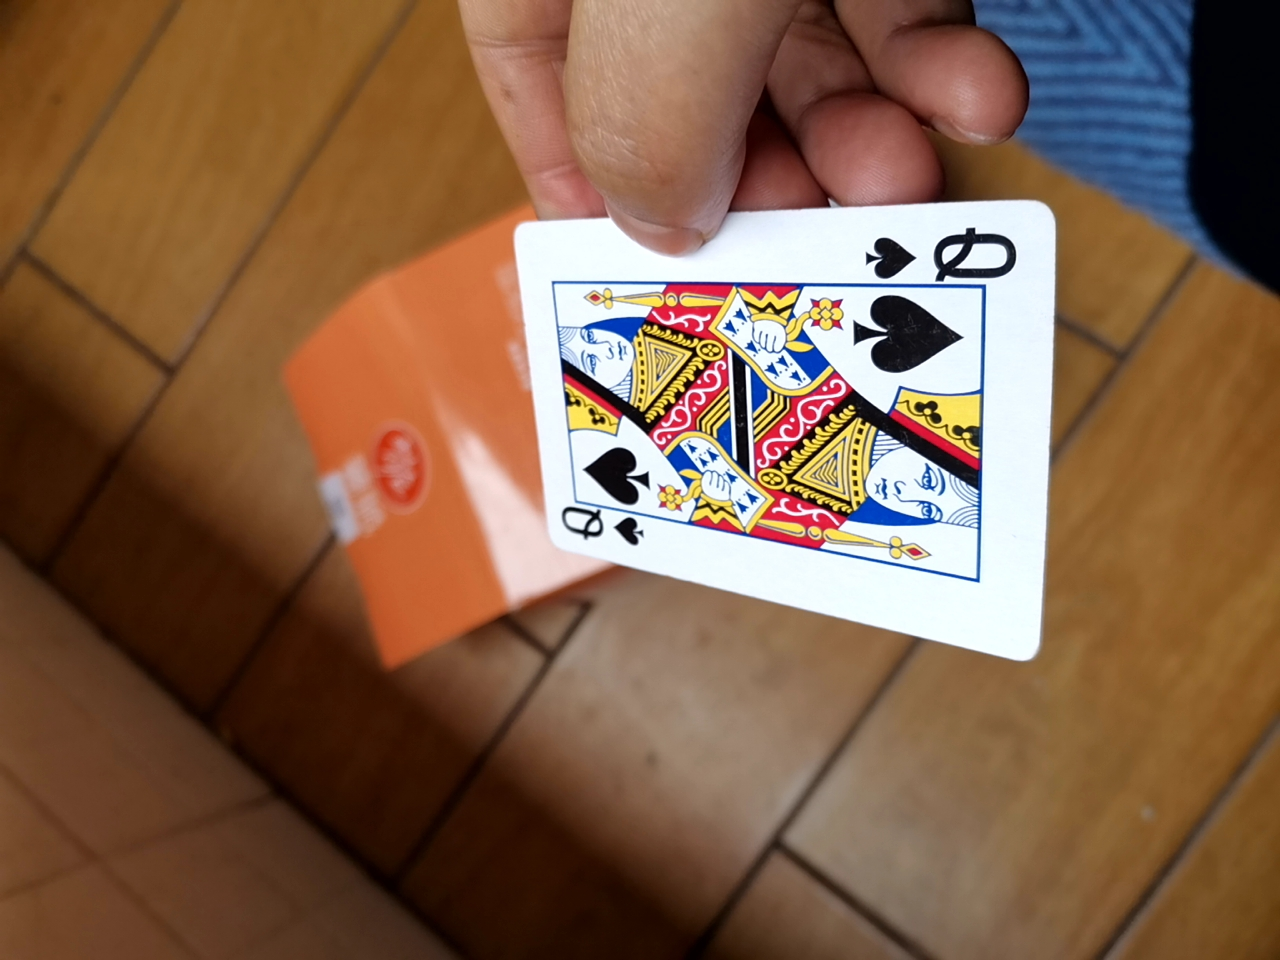ht q: (494, 190, 1043, 659)
